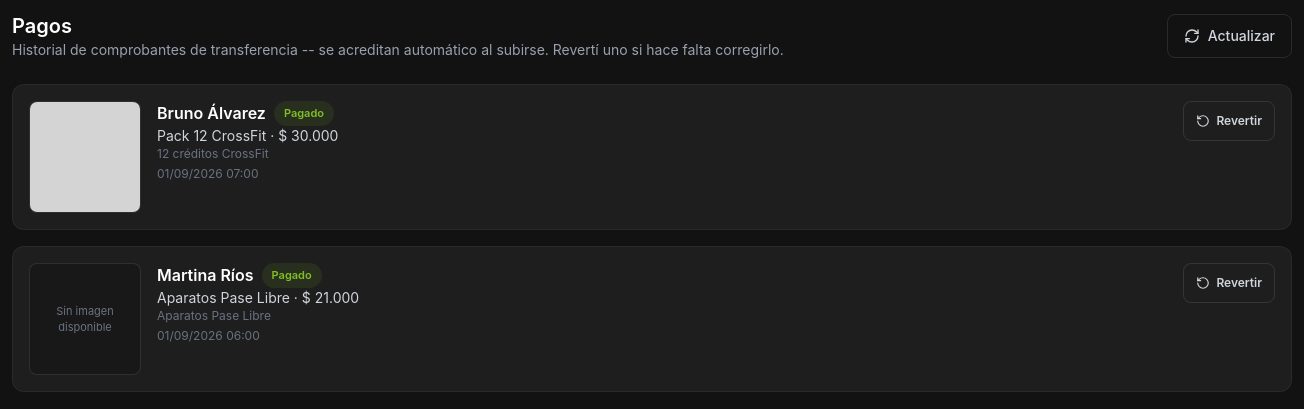
Test: Pagos (Fase 3 -- historial de comprobantes, acreditación automática + reversión) › Revertir: con un error real del RPC, muestra el error en la fila y el botón vuelve a estar disponible (no queda colgado)
expect the text "Bruno Álvarez" is shown: met, box x1=157 y1=101 x2=266 y2=125
What coordinates should you click on to do the following:
click the button "Revertir" in the row of "Bruno Álvarez"
I would click on:
 (1229, 121)
Its box is x1=1183 y1=101 x2=1275 y2=141.
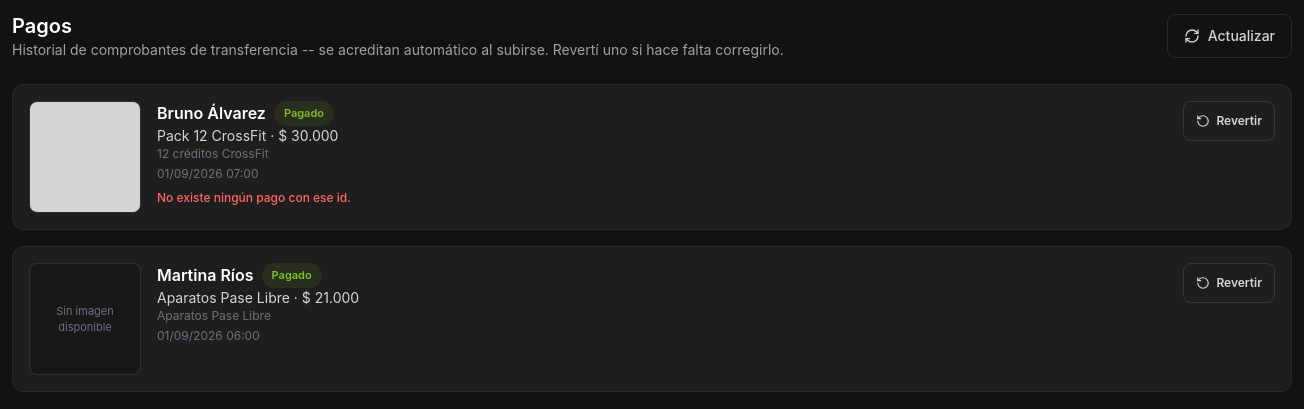
expect the text "Bruno Álvarez" is shown: met, box x1=157 y1=101 x2=266 y2=125
expect the text "No existe ningún pago con ese id." is shown: met, box x1=157 y1=190 x2=351 y2=204
